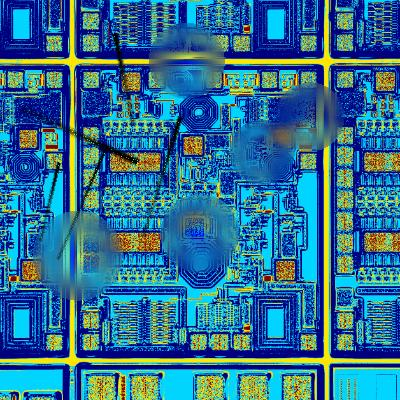Die: (74, 64, 324, 359)
Pad 1: (110, 233, 134, 252), (137, 233, 160, 252), (138, 153, 160, 171), (276, 261, 295, 280), (185, 218, 204, 237), (110, 153, 130, 171), (184, 137, 202, 155), (122, 73, 140, 91), (273, 130, 291, 148)
Pad 2: (83, 189, 99, 209), (83, 234, 99, 254), (83, 147, 99, 166), (83, 212, 99, 231), (83, 127, 99, 145), (83, 169, 99, 187), (83, 255, 99, 273), (300, 153, 317, 169), (190, 334, 207, 350), (211, 334, 228, 350), (83, 72, 99, 88), (83, 334, 99, 350), (234, 334, 250, 350), (206, 72, 222, 88), (262, 72, 277, 88), (301, 72, 316, 88), (83, 313, 99, 328), (149, 72, 164, 88), (301, 335, 316, 350)
